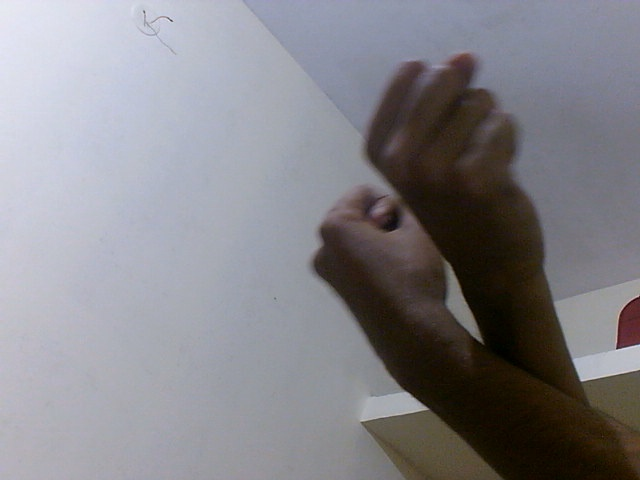hand: (359, 50, 548, 286), (310, 182, 455, 391)
